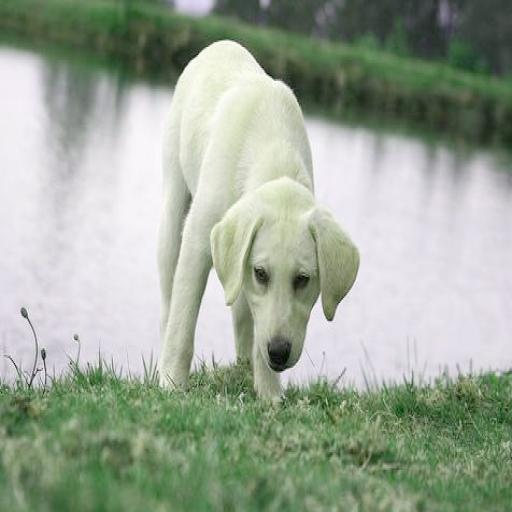dog_face: (214, 191, 356, 378)
